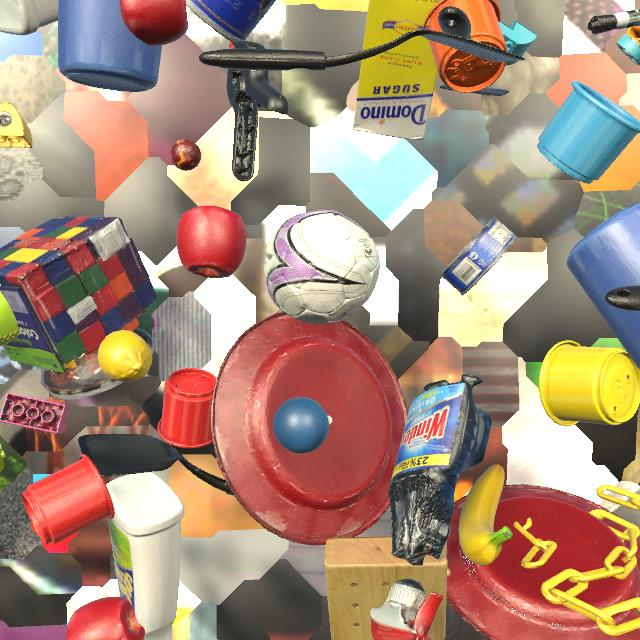ycb_002_master_chef_can: (186, 0, 276, 44)
ycb_004_sugar_box: (353, 0, 440, 140)
ycb_007_tuna_fish_can: (441, 217, 518, 296)
ycb_011_banana: (459, 464, 513, 566)
ycb_013_apple: (176, 205, 247, 278), (66, 596, 145, 640), (120, 0, 188, 46)
ycb_014_lemon: (98, 330, 152, 382)
